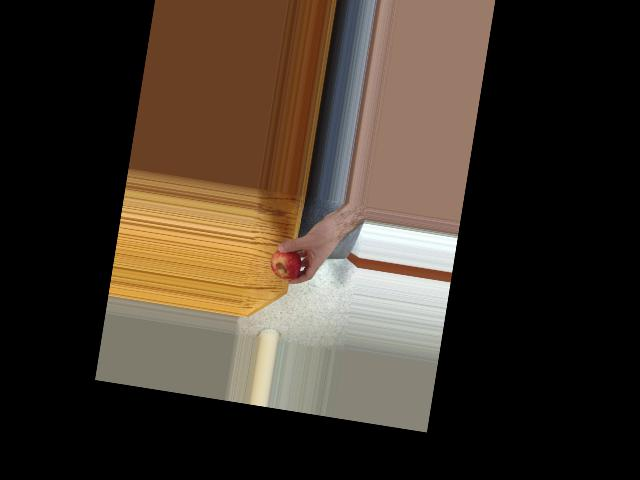apple: (268, 241, 305, 284)
